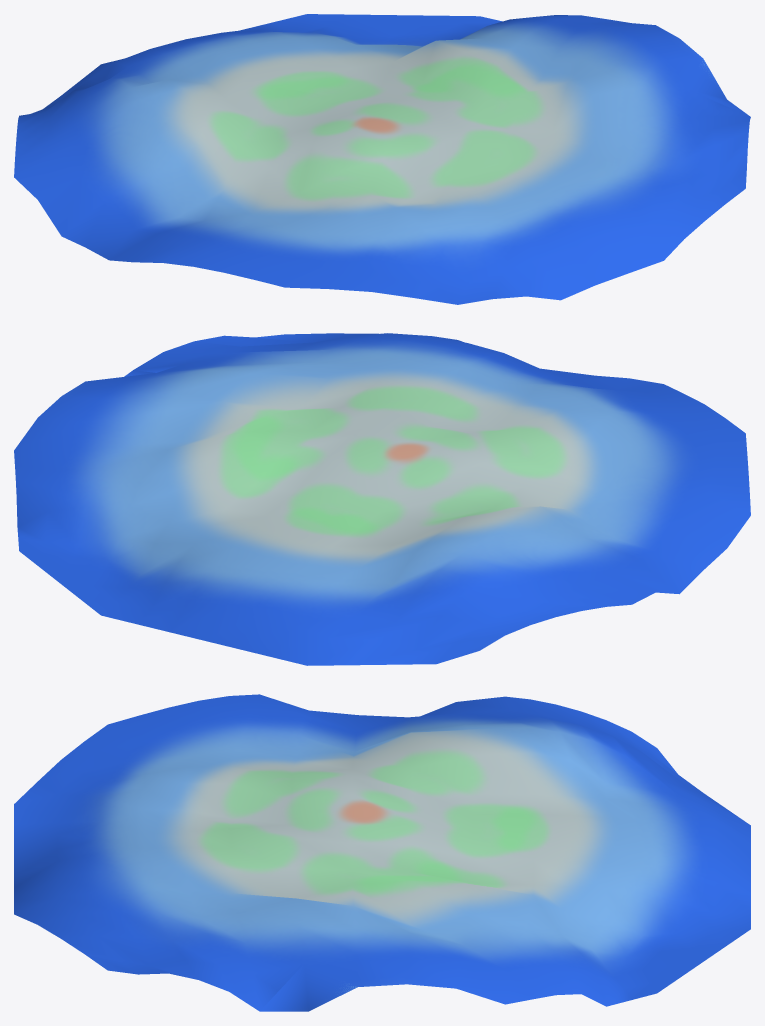
3 views of the same model, one above another, from view 1: azimuth 30°, elevation 25°; view 2: azimuth 150°, elevation 25°; view 3: azimuth 270°, elevation 25° (orthographic). The views are drawn at different scales.
Visible parts, largest first — view 1: Plane; view 2: Plane; view 3: Plane.
Part boxes in pixels (box(x1,y1,x2,y2)): Plane: box(14, 14, 750, 304); Plane: box(14, 333, 750, 665); Plane: box(14, 694, 750, 1011).
Bounding box in the file's own units: 12.41 × 1.22 × 12.41.
Materials: 1 (1 with a texture image).
